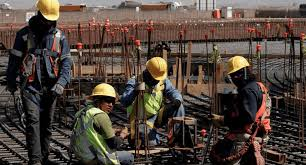Casco de seguridad: (36, 0, 59, 20), (146, 57, 166, 80), (227, 56, 249, 74), (89, 83, 115, 97)
